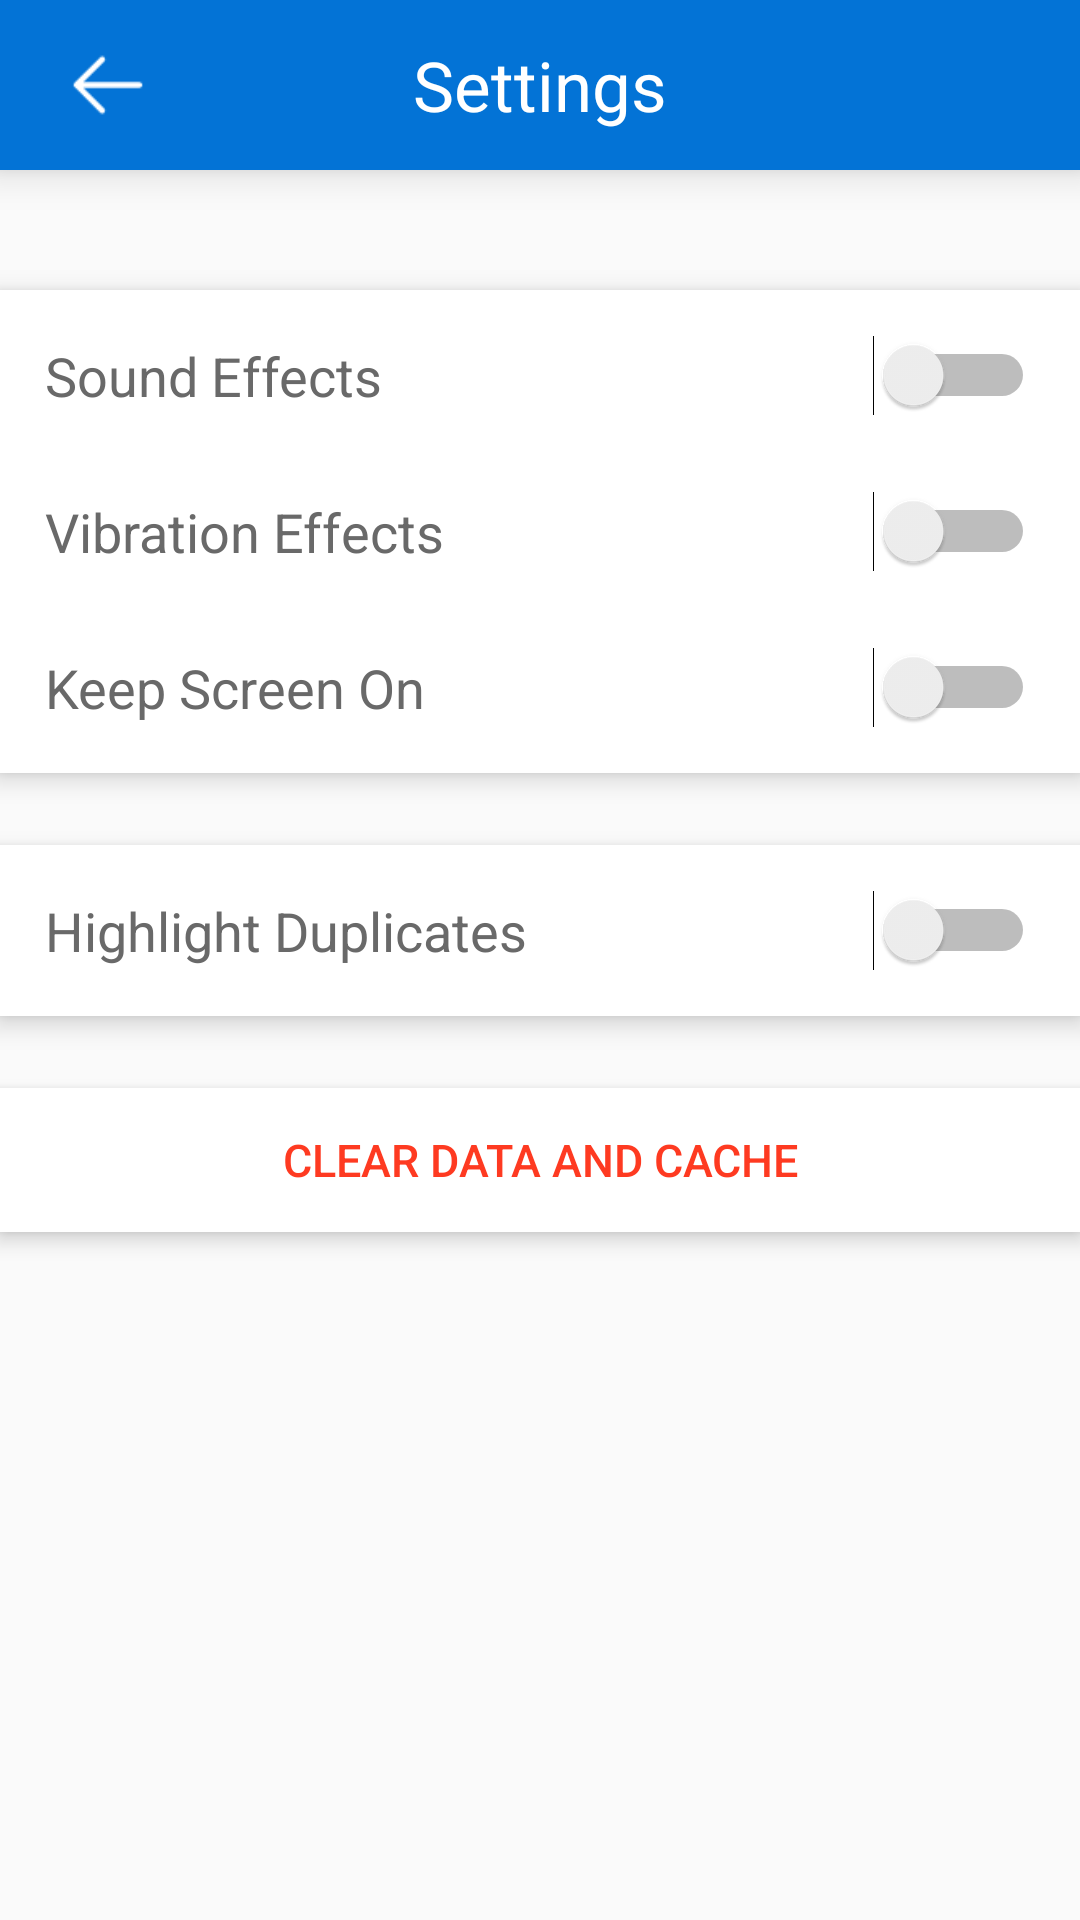

Where to tap for icons on this 1080×1920 app screen, as [x,y]:
return: [108,85]
